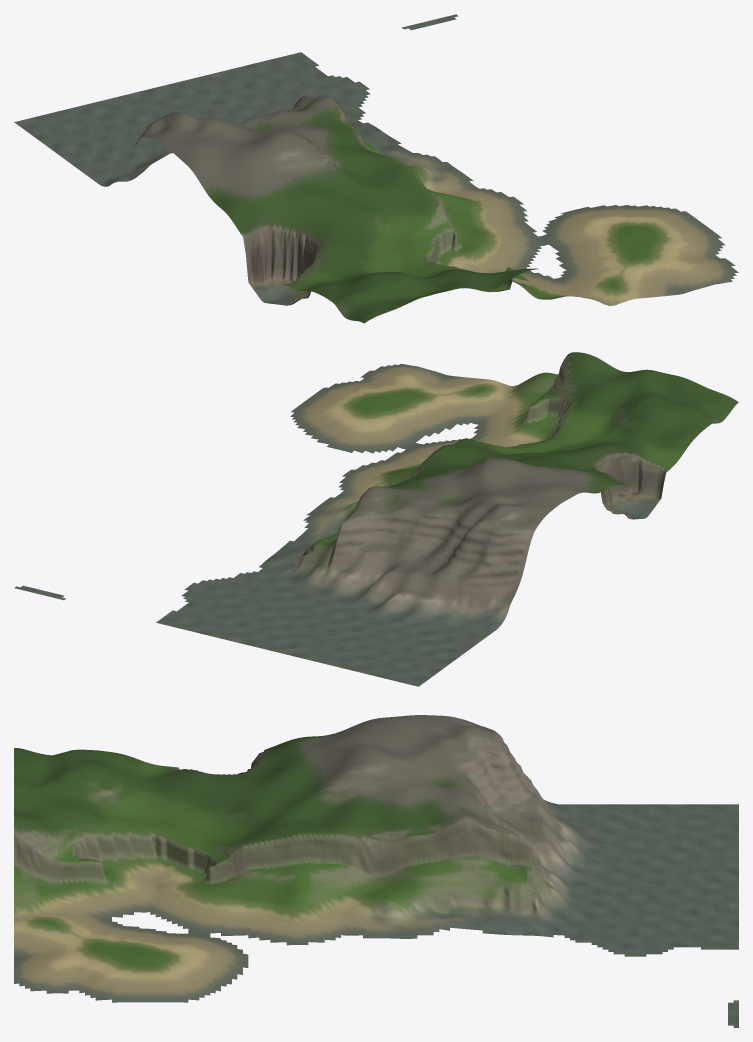
Rendered from coast_tile_x1z0.glb.
3 renders of one model, top to bottom at view 1: azimuth 30°, elevation 25°; view 2: azimuth 150°, elevation 25°; view 3: azimuth 270°, elevation 25°, orthographic. The views are drawn at different scales.
Parts seen in each view (by area): view 1: coast_tile_x1z0; view 2: coast_tile_x1z0; view 3: coast_tile_x1z0.
Boxes of the visible parts, bbox=[...] form: coast_tile_x1z0: bbox=[14, 14, 738, 323]; coast_tile_x1z0: bbox=[14, 352, 738, 686]; coast_tile_x1z0: bbox=[14, 715, 738, 1027].
Bounding box in the file's own units: 582 × 119 × 798.
